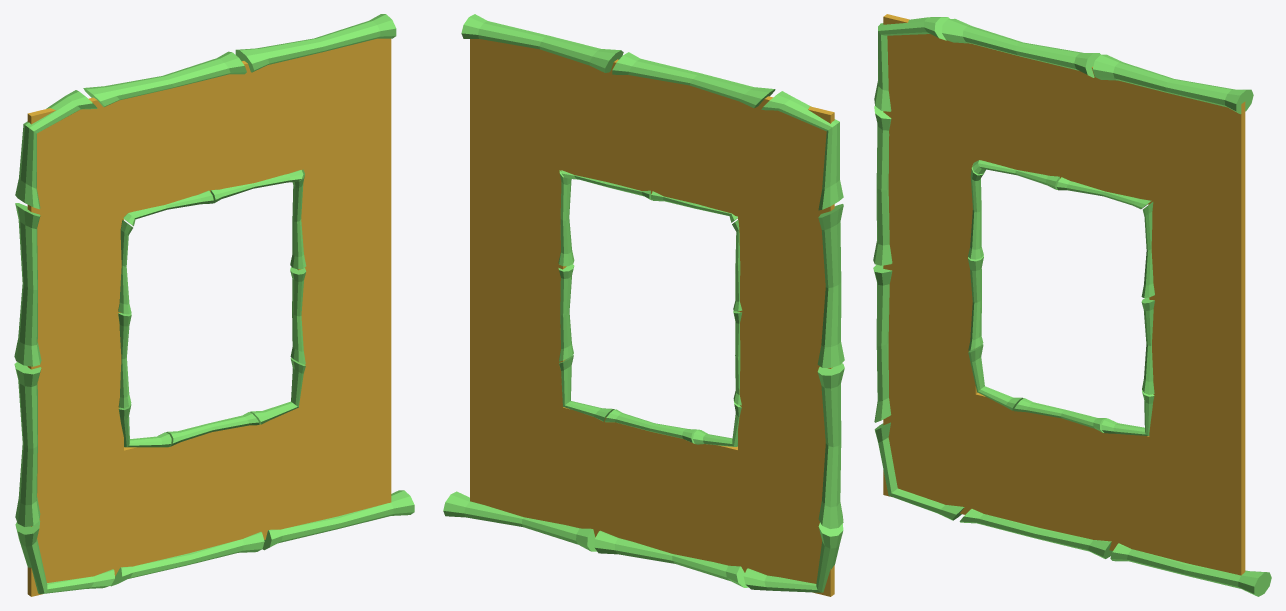
Rendered from Bamboo Window.fbx.
3 renders of one model, left to right at view 1: azimuth 30°, elevation 25°; view 2: azimuth 150°, elevation 25°; view 3: azimuth 330°, elevation 25°, orthographic.
Parts seen in each view (by area): view 1: Bamboo Window; view 2: Bamboo Window; view 3: Bamboo Window.
Boxes of the visible parts, x1,y1,x2,y2 form: Bamboo Window: (14,14,414,596); Bamboo Window: (443,14,844,596); Bamboo Window: (873,14,1271,596).
Size of the model in its own units: 108 by 134 by 8.46.
